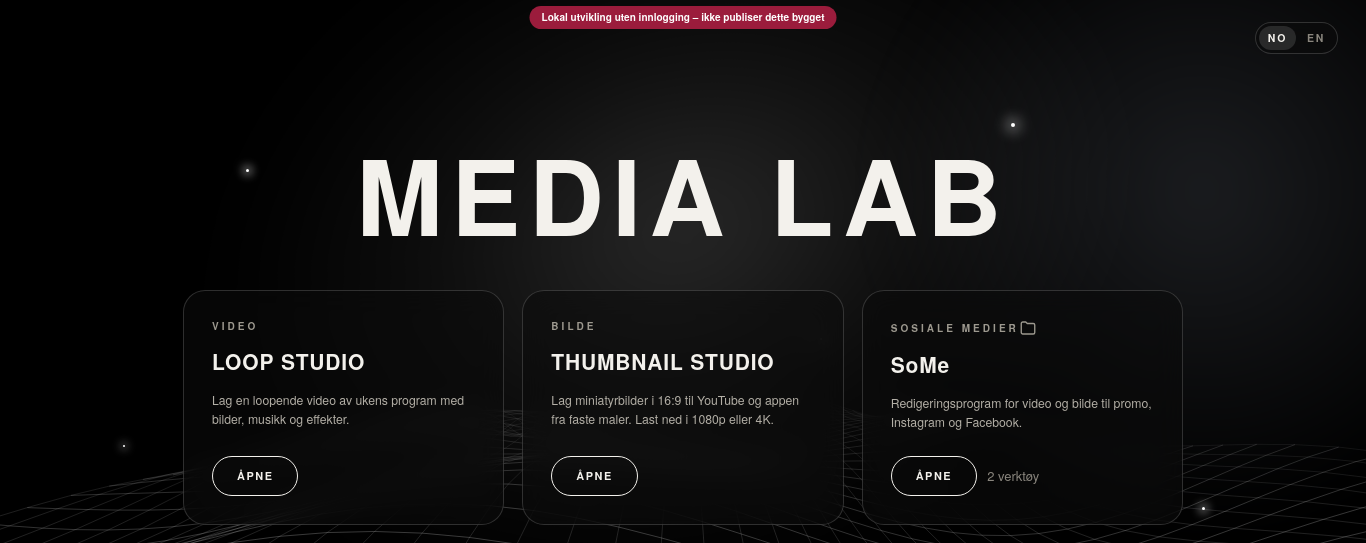
Test: App (lokal utvikling uten backend) › åpner mappene SoMe og Tools (#some/#tools) med verktøyene inni
This screenshot has width=1366, height=543.
Click the button "SoMe" at (1022, 407), box x1=862 y1=290 x2=1183 y2=525
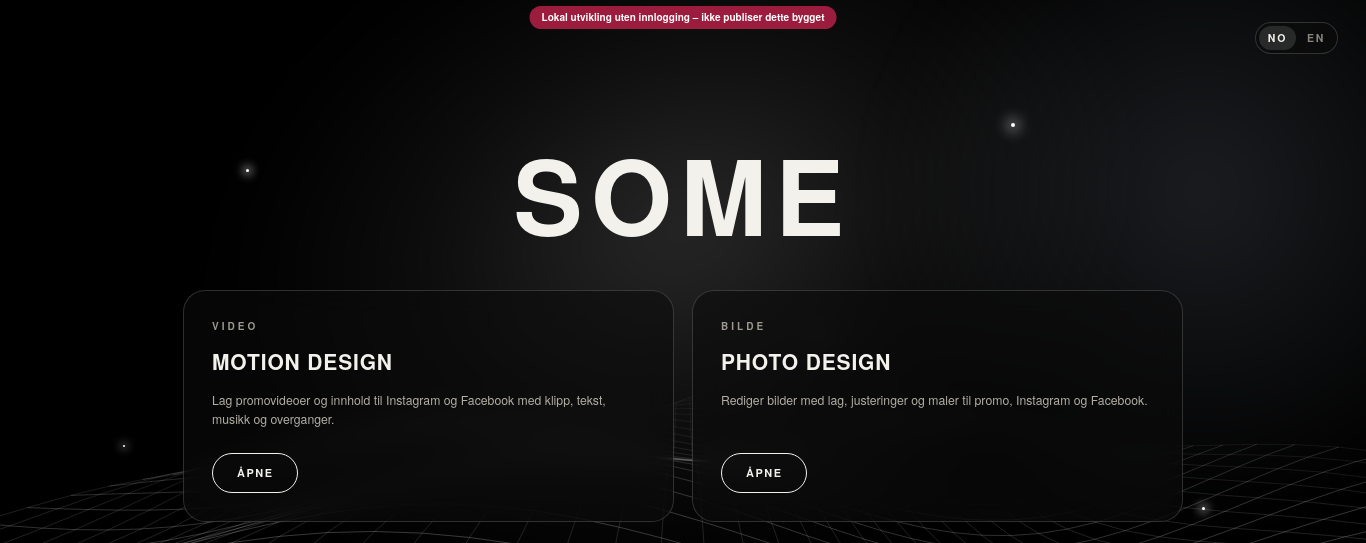
Result: the heading "SoMe" is shown at x1=513 y1=142 x2=853 y2=246
Result: the link "Motion design" is shown at x1=183 y1=290 x2=674 y2=522
Result: the link "Photo design" is shown at x1=692 y1=290 x2=1183 y2=522
